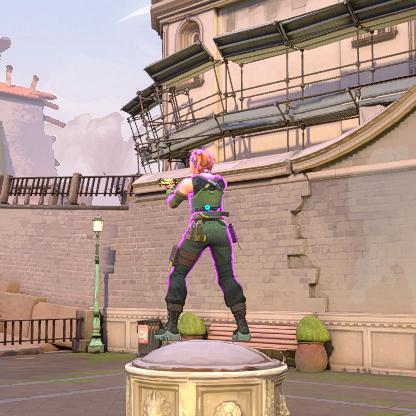enemyBody: (192, 180, 223, 234)
enemyHead: (190, 159, 210, 172)
